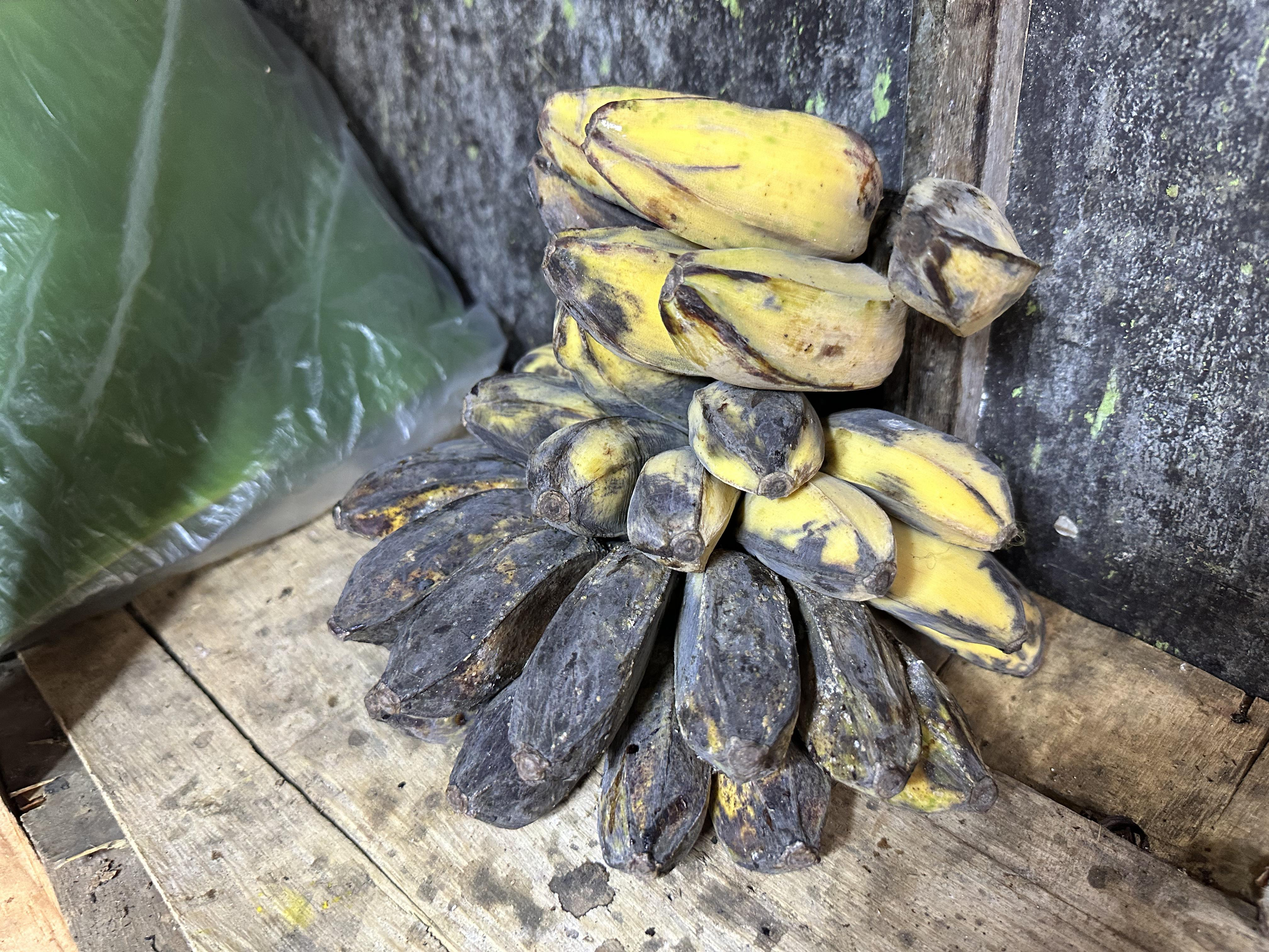overripe: (330, 442, 996, 872)
ripe: (463, 316, 1042, 675), (529, 87, 1040, 390)
